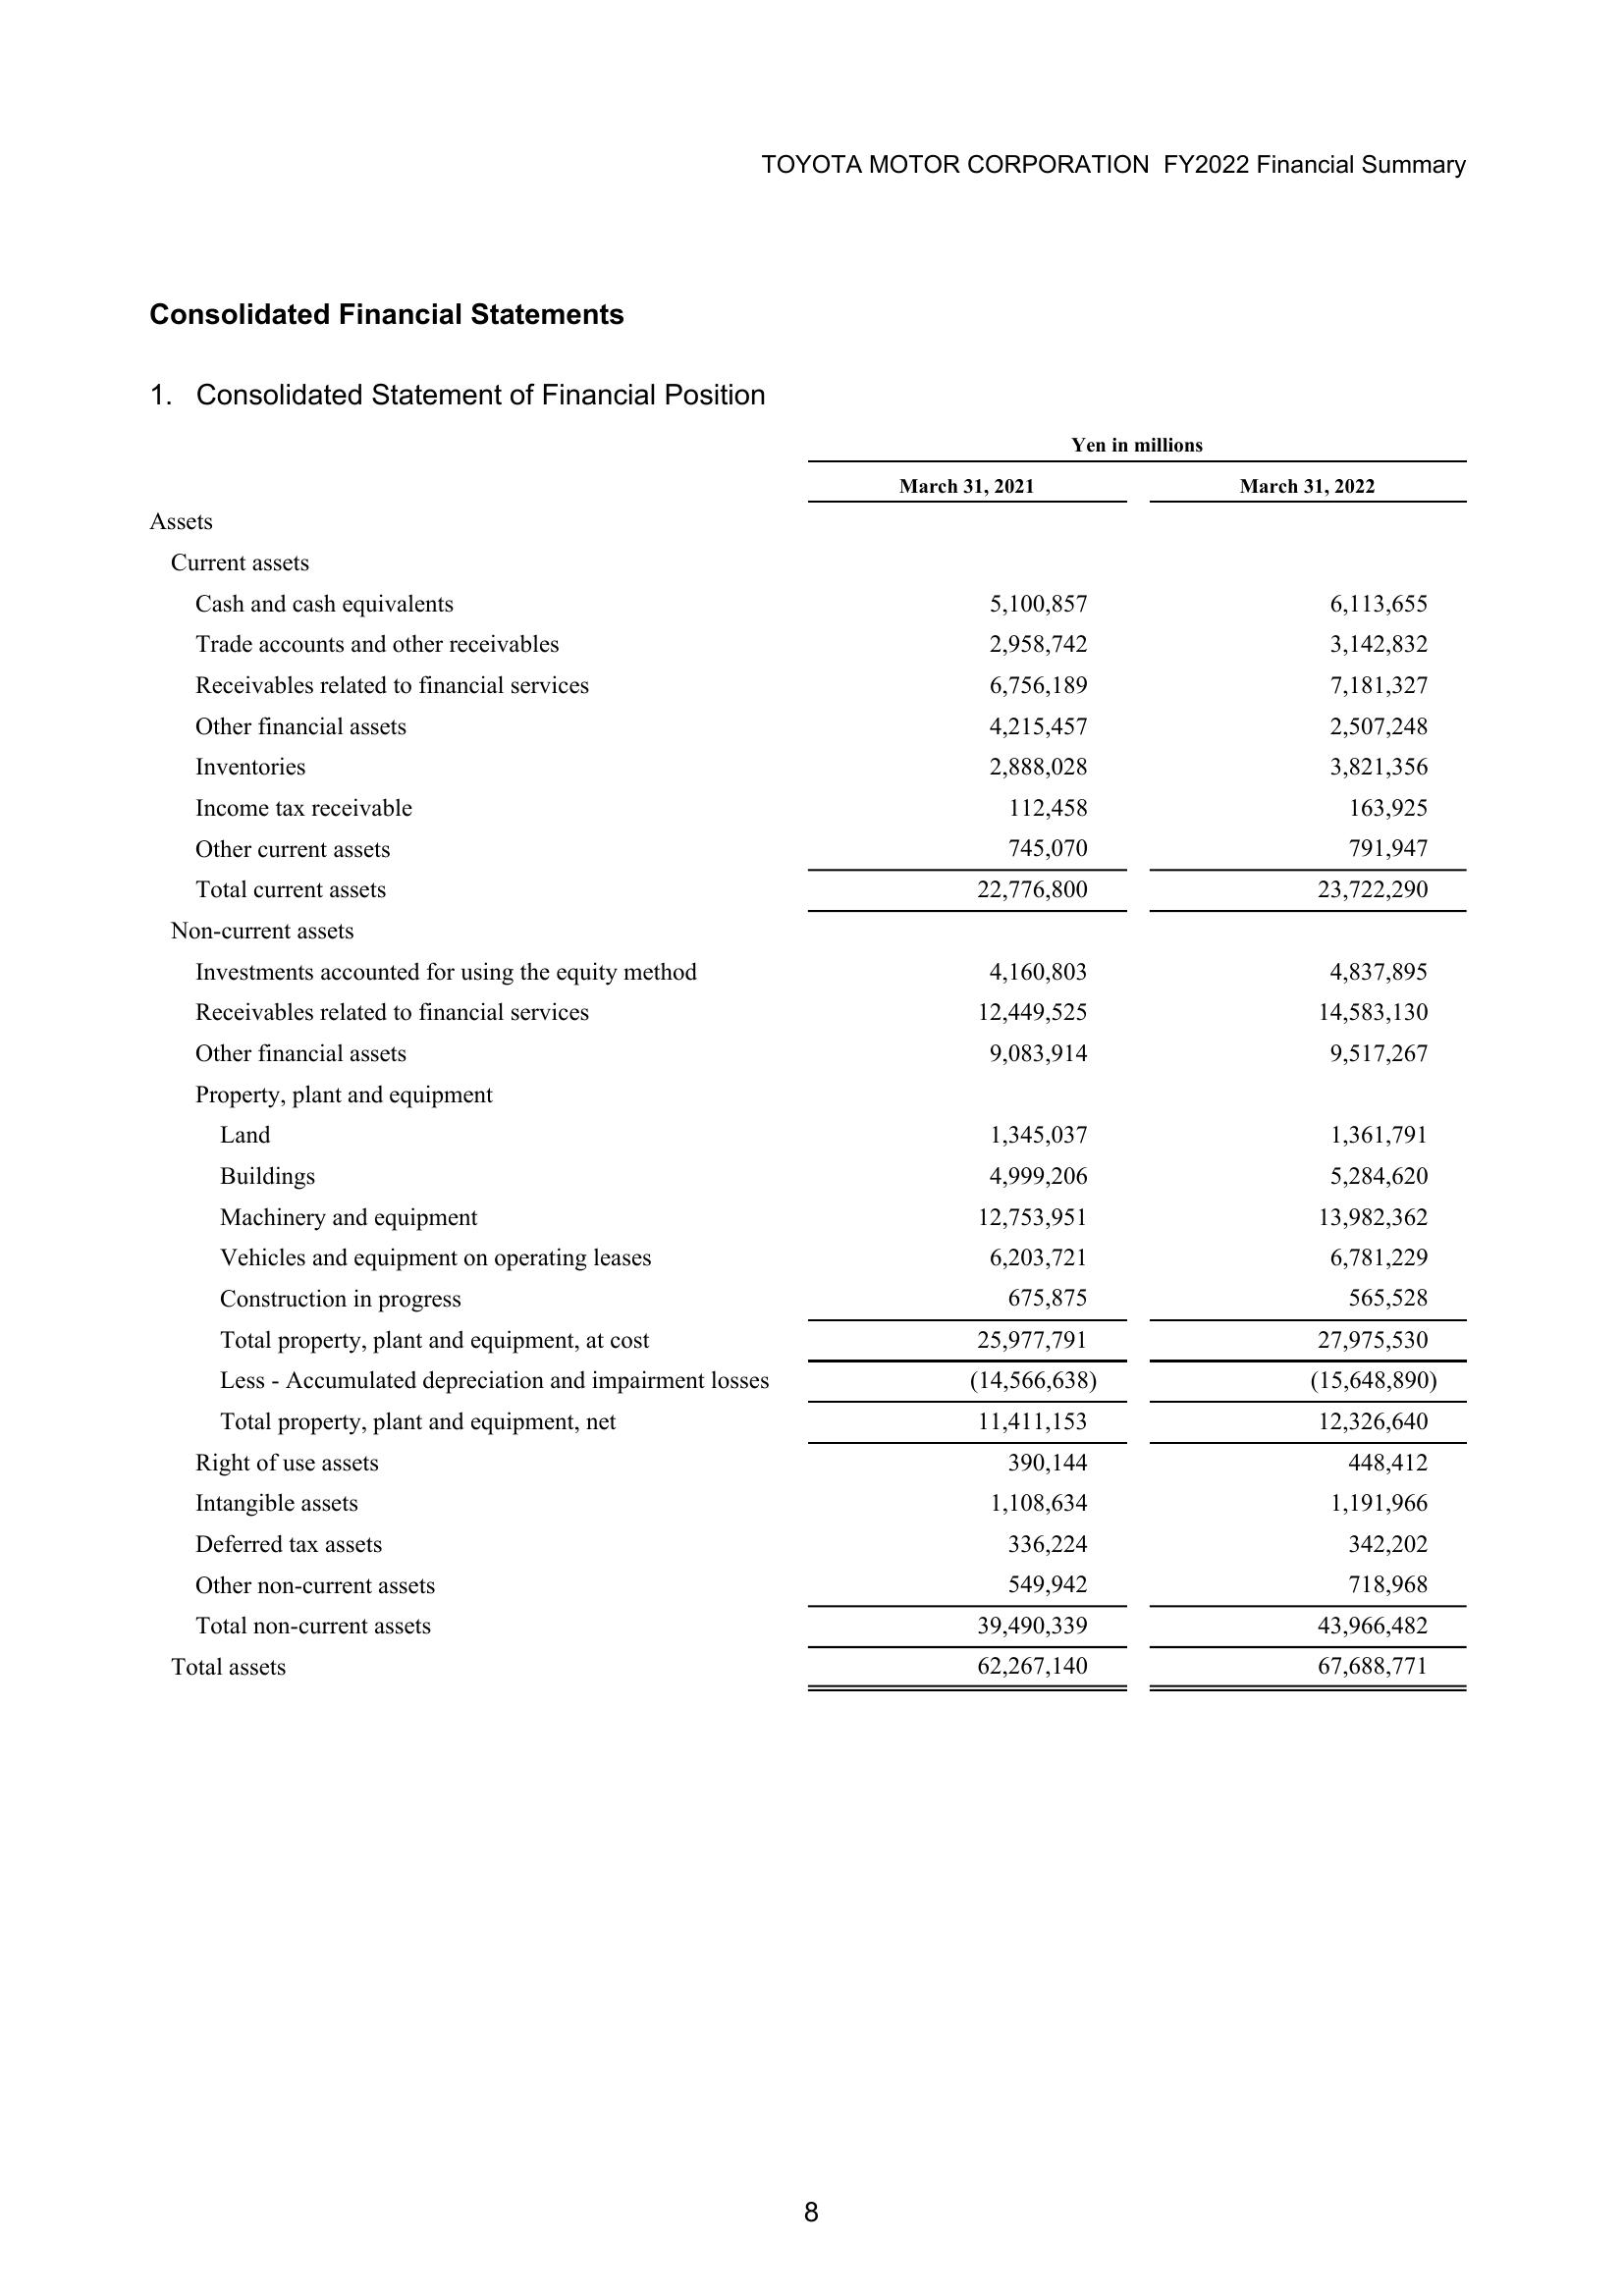Footer: (0, 2140, 1624, 2296)
Header: (0, 0, 1624, 197)
Table: (77, 411, 1497, 1727)
